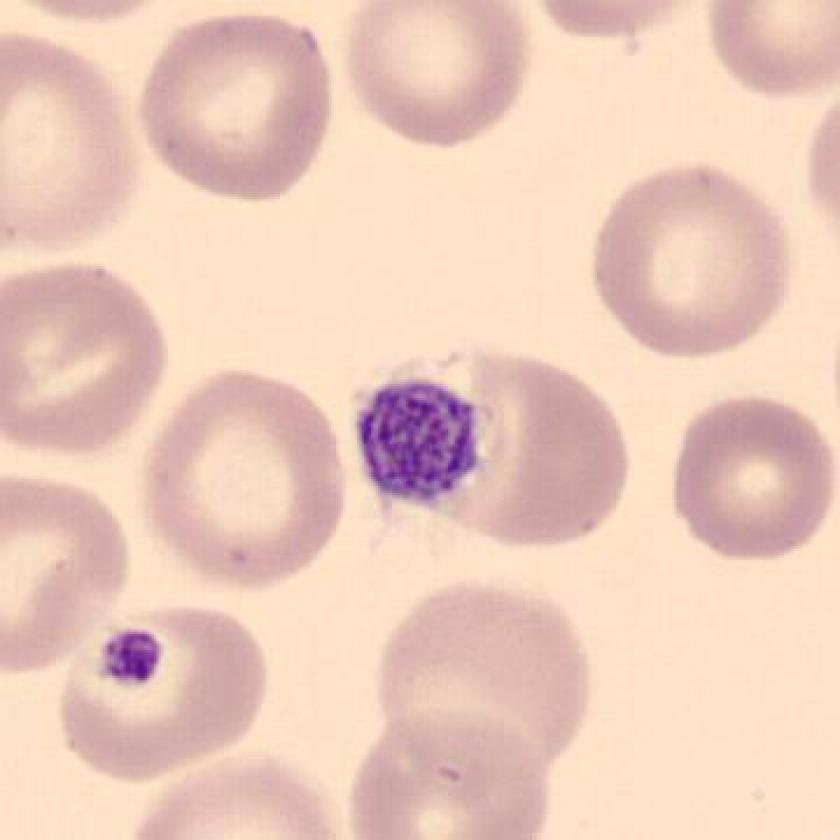platelets: (337, 362, 493, 515), (88, 610, 179, 707)
